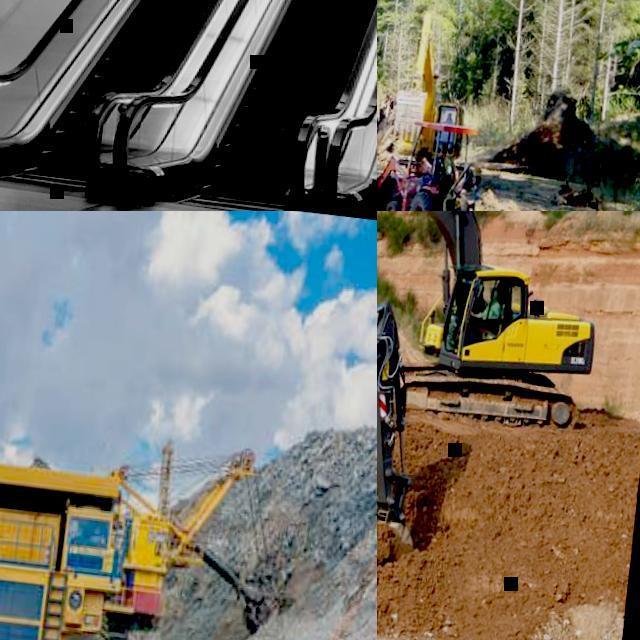vest: (481, 302, 500, 322), (443, 118, 452, 124)
